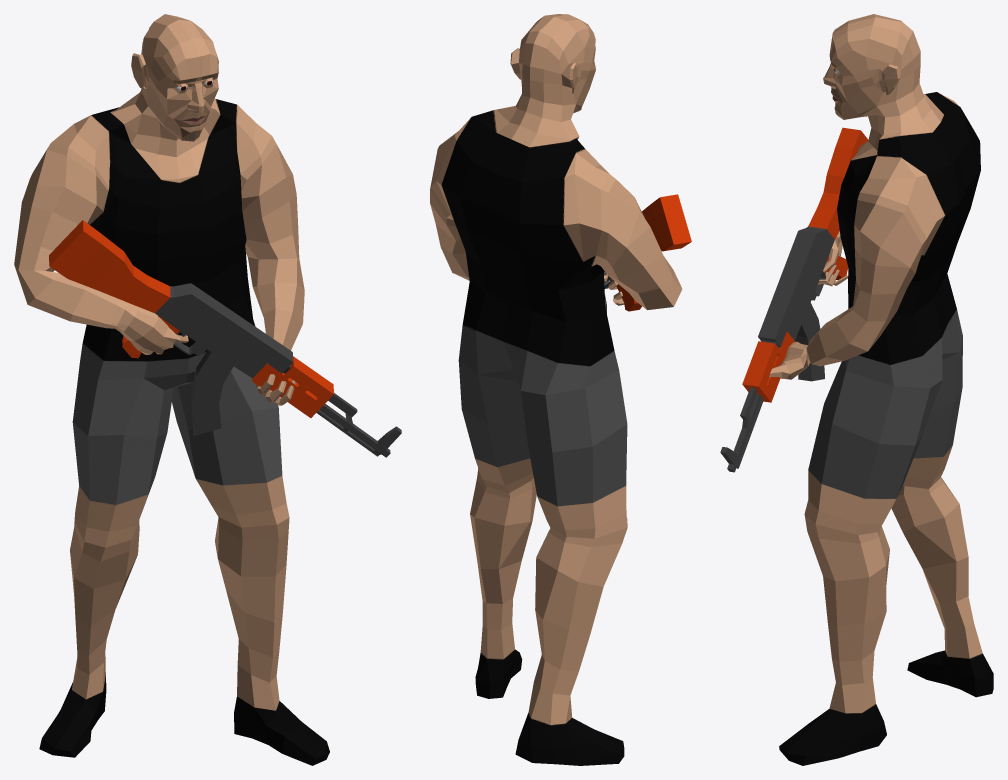
File: PlayerIdle(50).obj
3 views of the same model, side by side, from view 1: azimuth 30°, elevation 25°; view 2: azimuth 150°, elevation 25°; view 3: azimuth 270°, elevation 25° (orthographic). The views are drawn at different scales.
Visible parts, largest first — view 1: Plane002, Object001; view 2: Plane002, Object001; view 3: Plane002, Object001.
Part boxes in pixels (x1=…): Plane002: x1=14, y1=14, x2=329, y2=765; Object001: x1=49, y1=220, x2=401, y2=457; Plane002: x1=430, y1=14, x2=682, y2=765; Object001: x1=604, y1=194, x2=691, y2=313; Plane002: x1=769, y1=14, x2=993, y2=765; Object001: x1=720, y1=127, x2=868, y2=472.
Size of the model in its own units: 741 by 1803 by 642.
